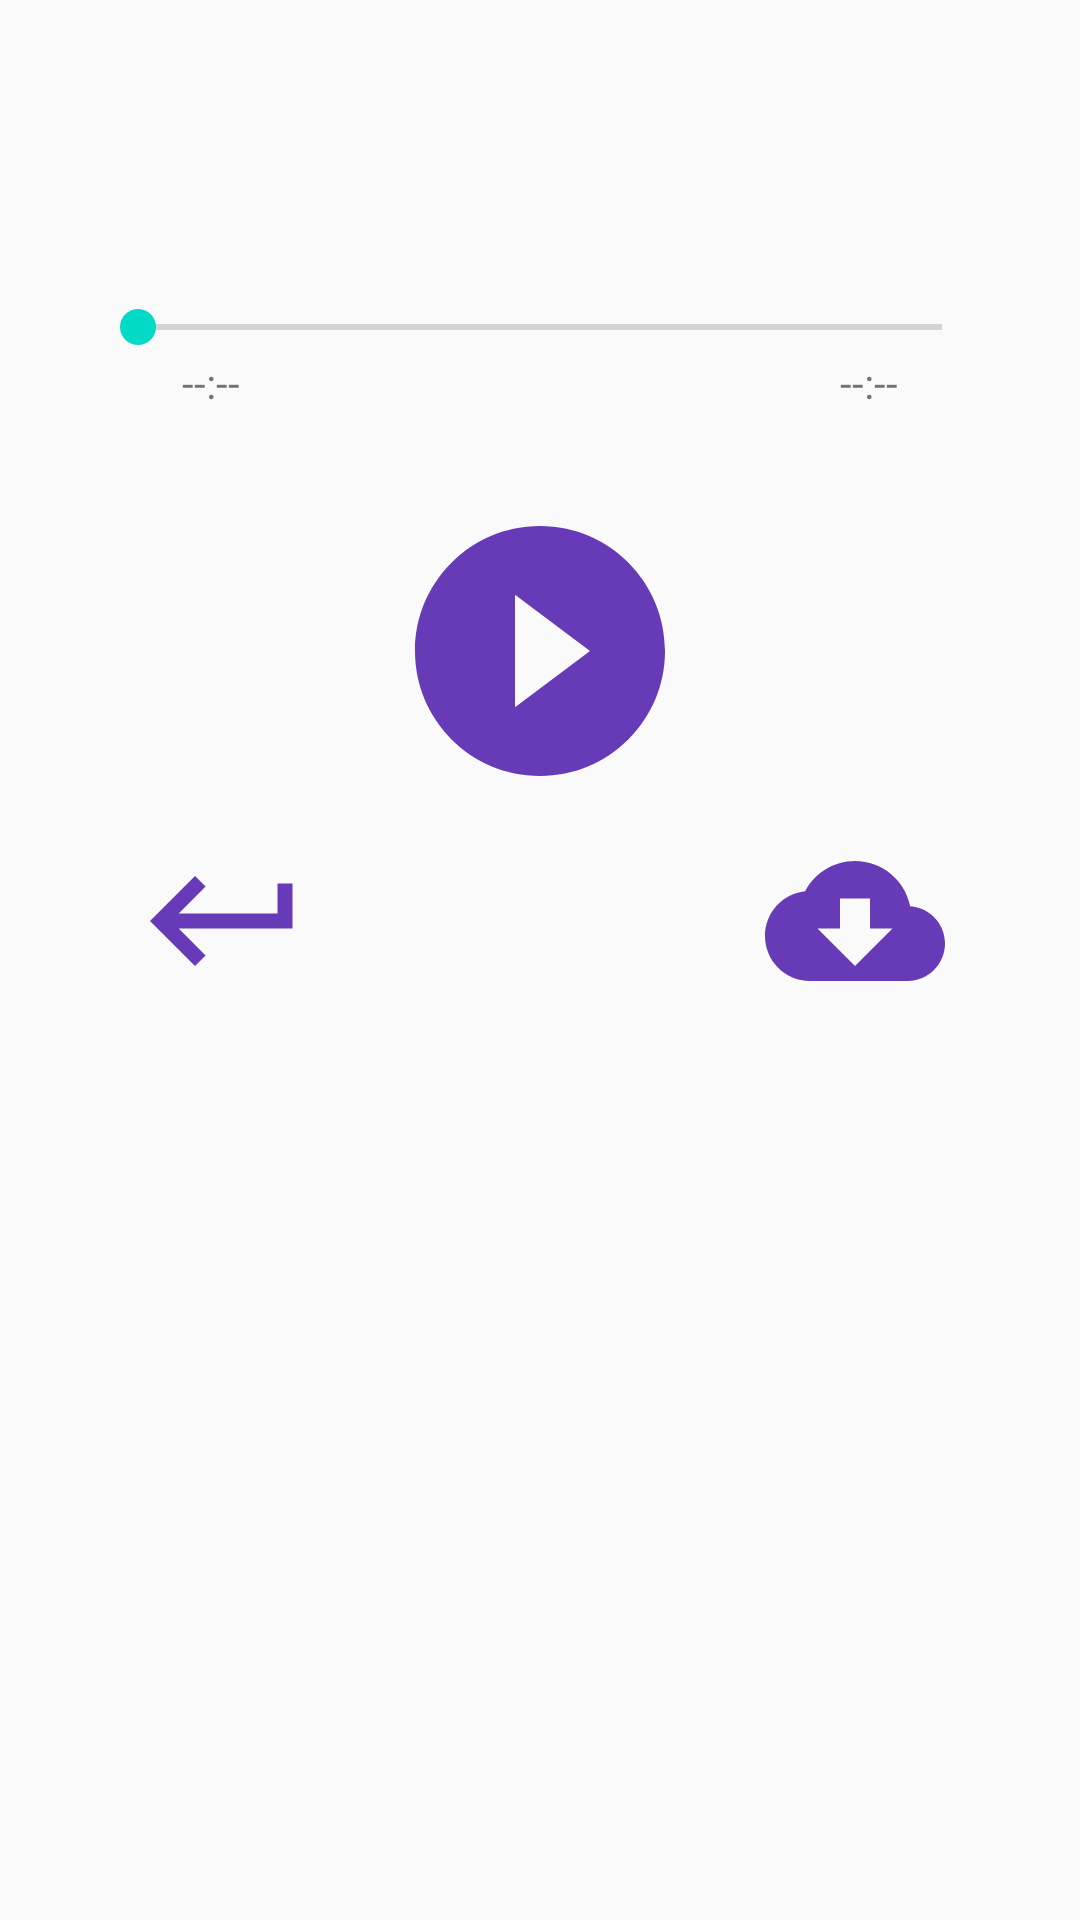

Icon click points for this 1080px×1920px phone screenshot, format point (x, y):
cloud download: point (855, 921)
keyboard return: point (221, 921)
play circle: point (540, 651)
